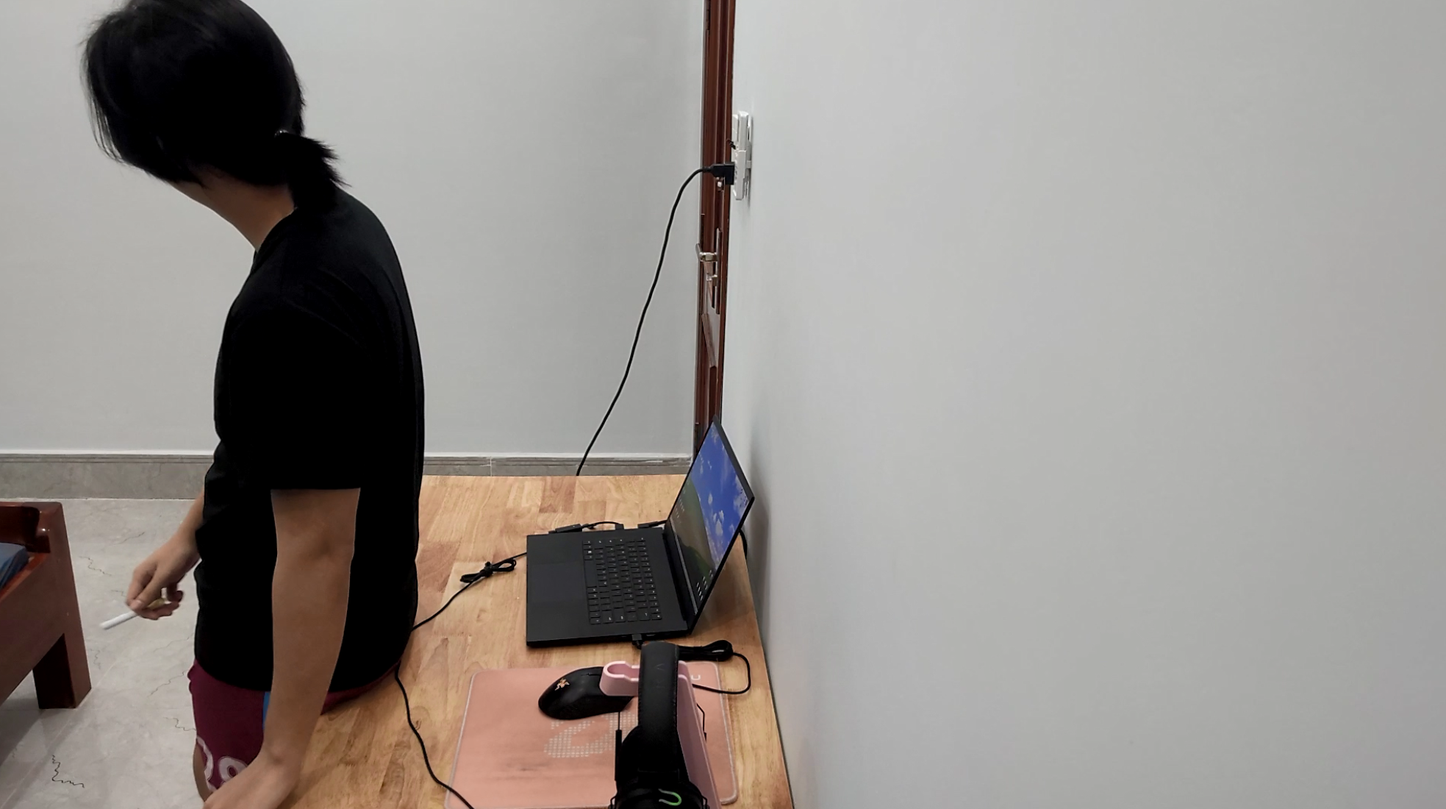cigarette: (101, 597, 171, 630)
person: (63, 0, 431, 733)
